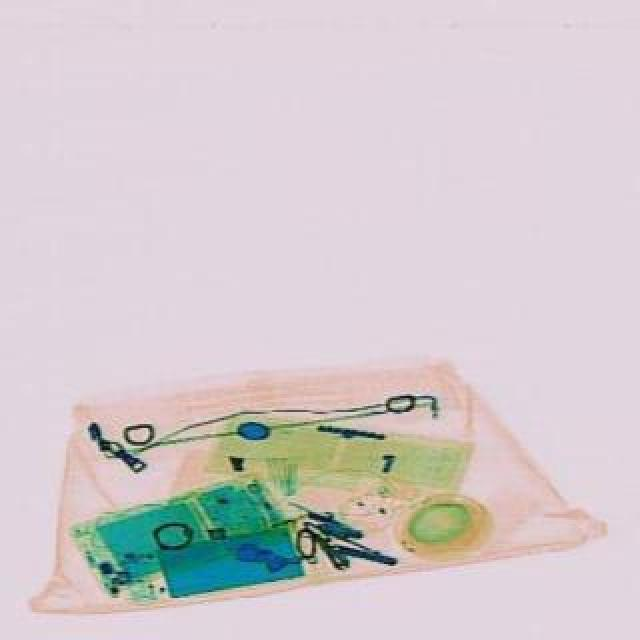pliers: (282, 514, 354, 582)
